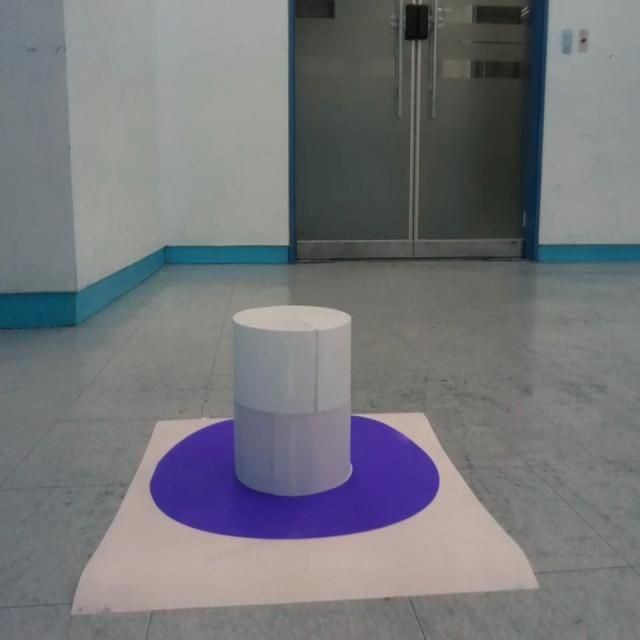cylinder: (232, 304, 354, 497)
